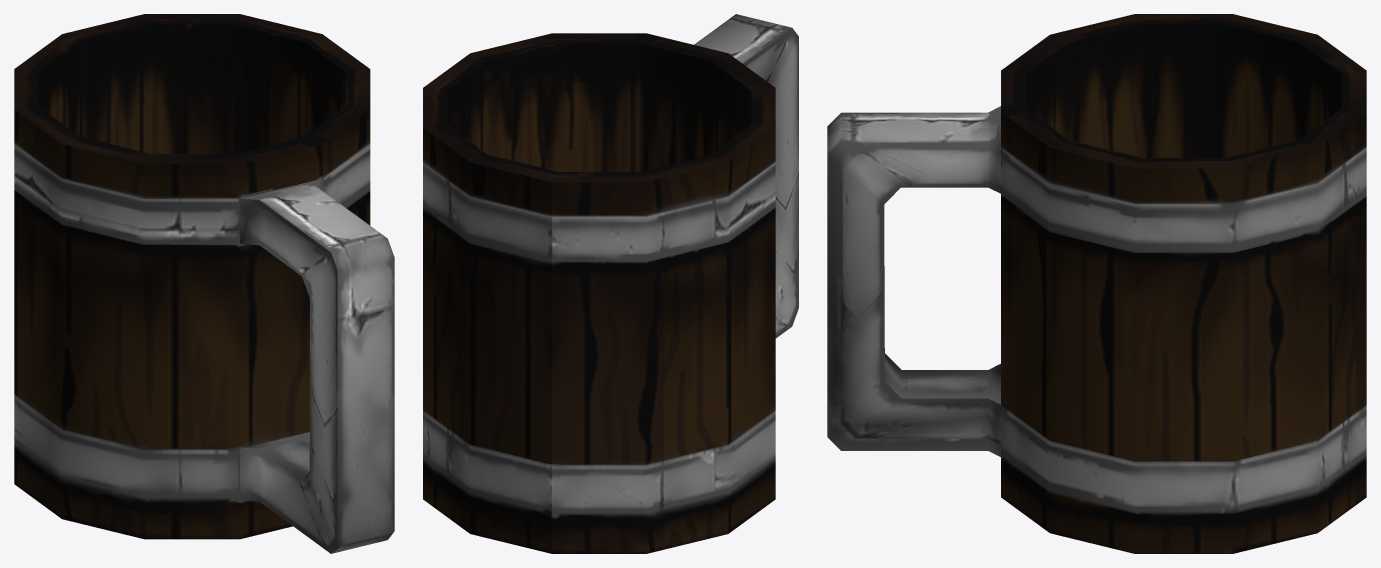
Rendered from Mug.fbx.
3 renders of one model, left to right at view 1: azimuth 30°, elevation 25°; view 2: azimuth 150°, elevation 25°; view 3: azimuth 270°, elevation 25°, orthographic. The views are drawn at different scales.
Visible parts, largest first — view 1: Mug; view 2: Mug; view 3: Mug.
Part boxes in pixels (left/top/right/bottom): Mug: left=14, top=14, right=394, bottom=553; Mug: left=423, top=14, right=798, bottom=553; Mug: left=827, top=14, right=1366, bottom=553.
Size of the model in its own units: 12.88 by 14.98 by 19.
Materials: 1 (1 with a texture image).
